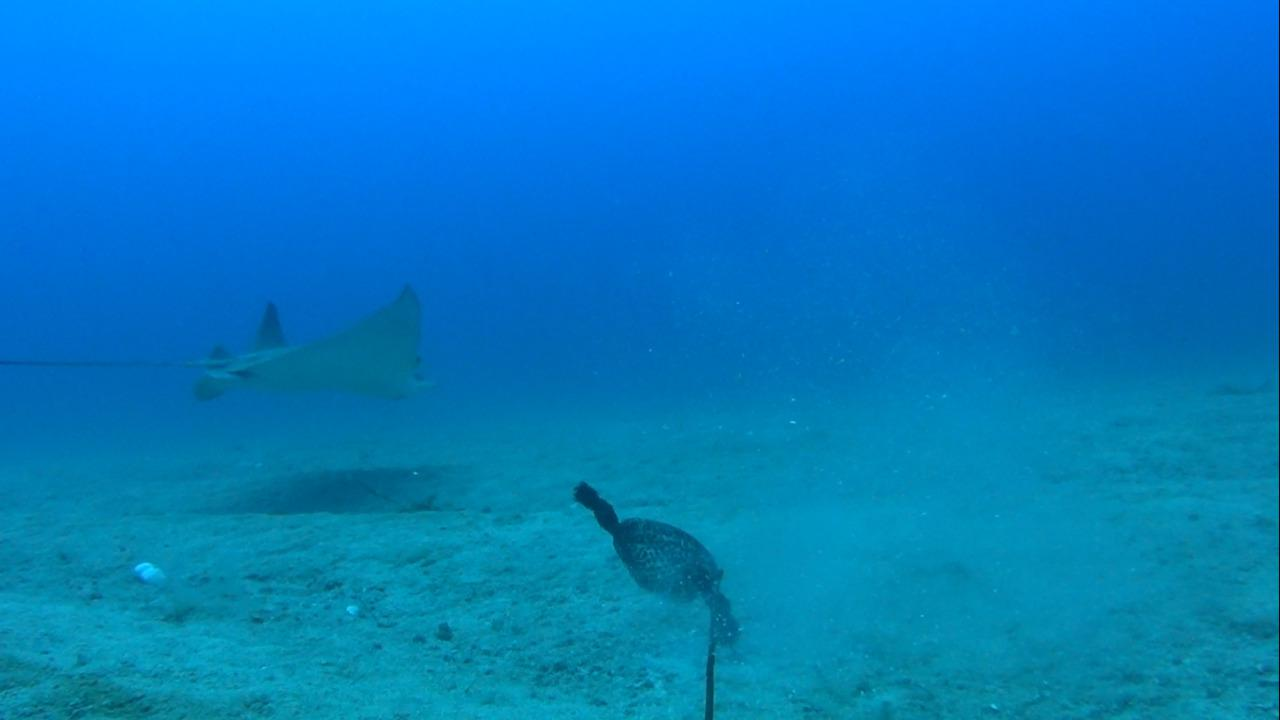myliobatis: (11, 273, 443, 412)
